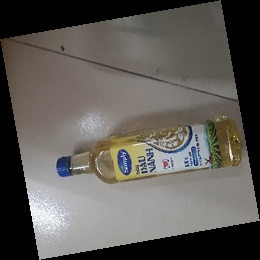Simply: (54, 115, 244, 185)
